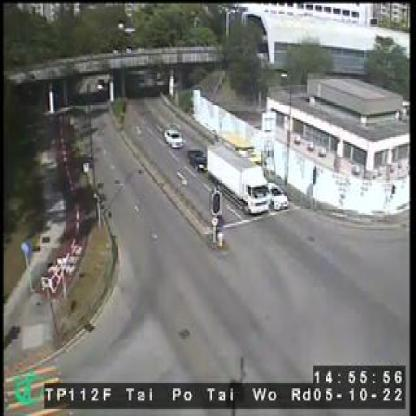Car: (268, 180, 286, 208), (164, 128, 183, 146), (187, 151, 204, 170)
Truck: (205, 144, 268, 211)
